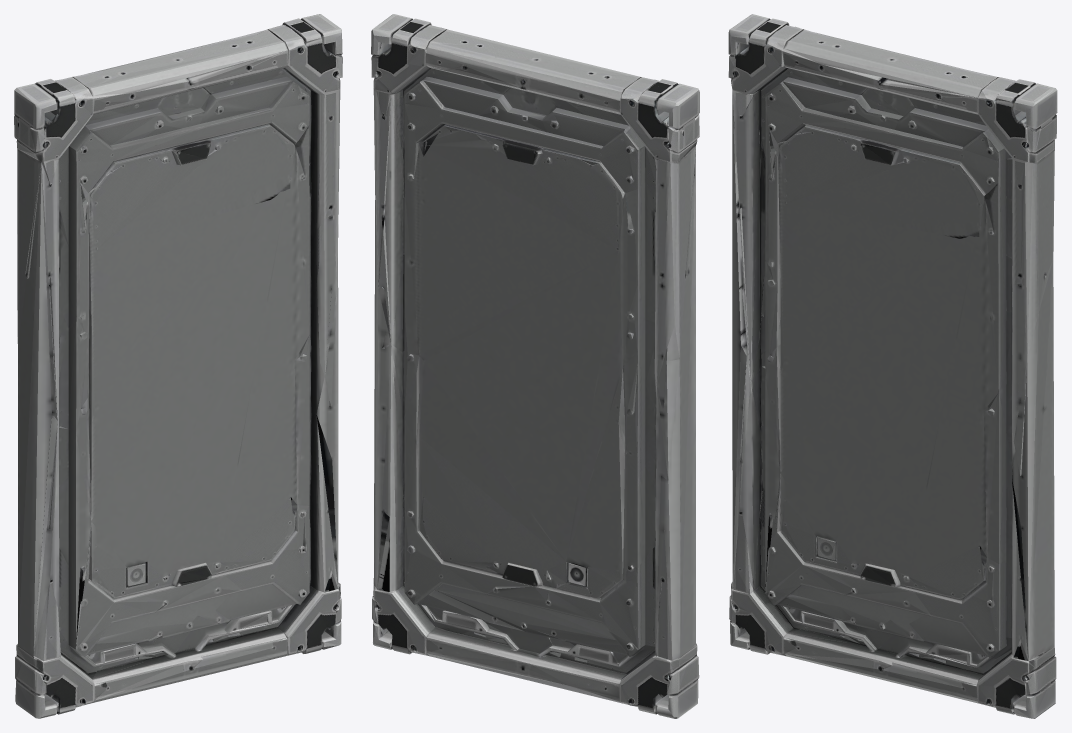
Rendered from wall_panel_flat.glb.
3 views of the same model, side by side, from view 1: azimuth 30°, elevation 25°; view 2: azimuth 150°, elevation 25°; view 3: azimuth 330°, elevation 25° (orthographic).
Visible parts, largest first — view 1: output_unwrapped; view 2: output_unwrapped; view 3: output_unwrapped.
Part boxes in pixels (<box>): output_unwrapped: <box>14,14,342,718</box>; output_unwrapped: <box>371,14,699,718</box>; output_unwrapped: <box>728,14,1057,718</box>.
Size of the model in its own units: 0.9926 by 1.9 by 0.1717.
1 material, 1 textured.
